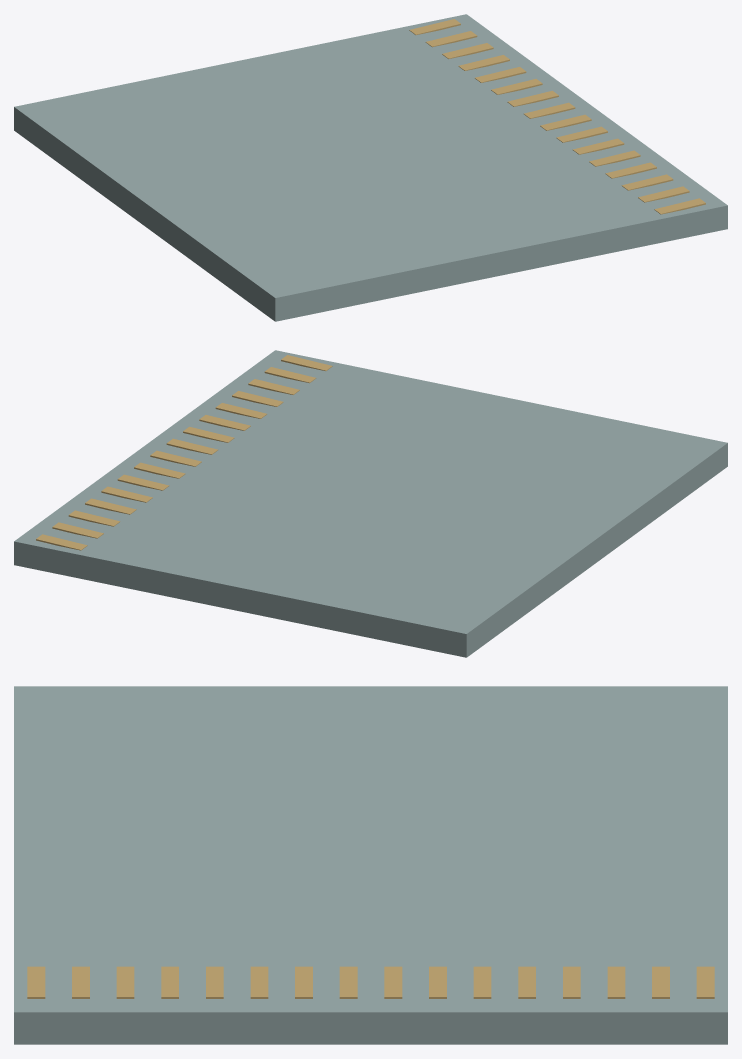
The model's file is Transit_Walk_W4_AccessibleRamp_4m.glb.
3 views of the same model, one above another, from view 1: azimuth 30°, elevation 25°; view 2: azimuth 150°, elevation 25°; view 3: azimuth 270°, elevation 25° (orthographic). The views are drawn at different scales.
Parts seen in each view (by area): view 1: Transit_Walk_W4_AccessibleRamp_4m_Ramp, Transit_Walk_W4_AccessibleRamp_4m_Tactile; view 2: Transit_Walk_W4_AccessibleRamp_4m_Ramp, Transit_Walk_W4_AccessibleRamp_4m_Tactile; view 3: Transit_Walk_W4_AccessibleRamp_4m_Ramp, Transit_Walk_W4_AccessibleRamp_4m_Tactile.
Boxes of the visible parts, box(x1,y1,x2,y2) form: Transit_Walk_W4_AccessibleRamp_4m_Ramp: box(14, 14, 727, 321); Transit_Walk_W4_AccessibleRamp_4m_Tactile: box(409, 19, 705, 214); Transit_Walk_W4_AccessibleRamp_4m_Ramp: box(14, 350, 727, 657); Transit_Walk_W4_AccessibleRamp_4m_Tactile: box(36, 355, 332, 550); Transit_Walk_W4_AccessibleRamp_4m_Ramp: box(14, 686, 727, 1044); Transit_Walk_W4_AccessibleRamp_4m_Tactile: box(27, 966, 714, 998).
Size of the model in its own units: 4 by 0.35 by 4.
